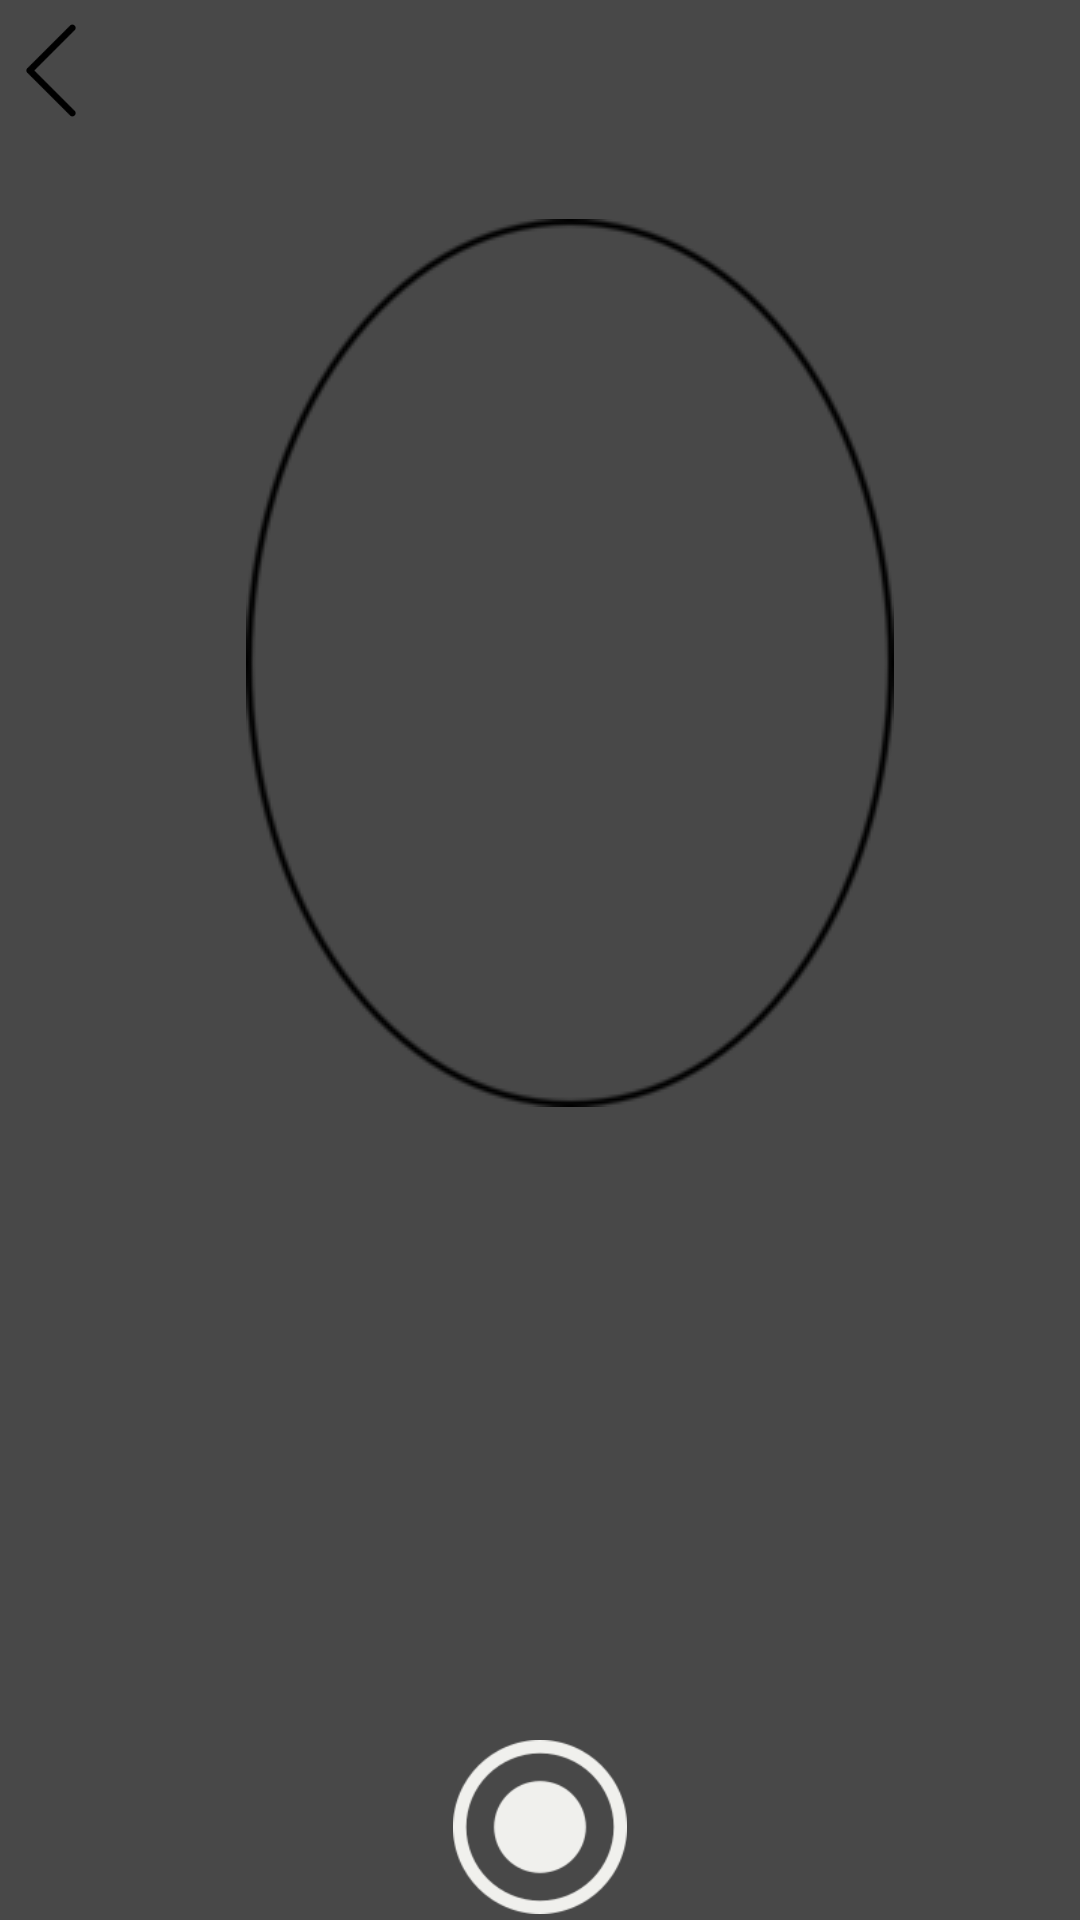

Icon click points for this 1080 × 1920 phone screenshot, format (x,y):
arrow: (51,70)
